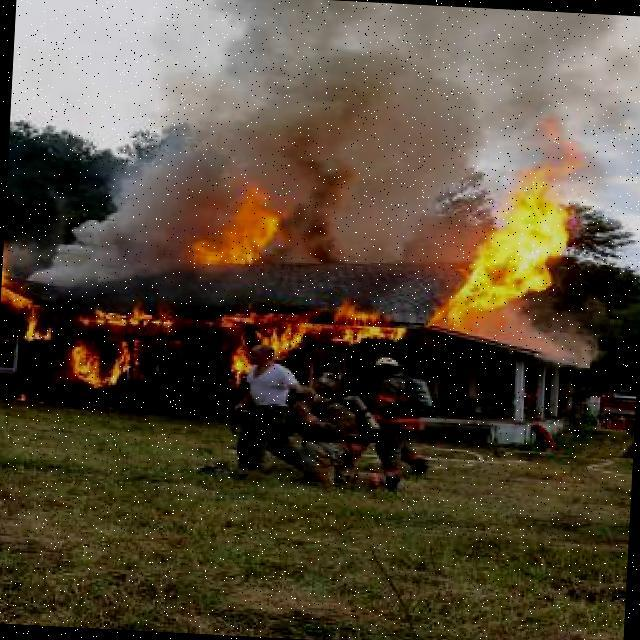Fire: (416, 155, 573, 341), (59, 305, 183, 389), (217, 297, 407, 349), (199, 170, 290, 272)
Smoke: (127, 0, 640, 166), (45, 136, 211, 296), (461, 306, 613, 388)
